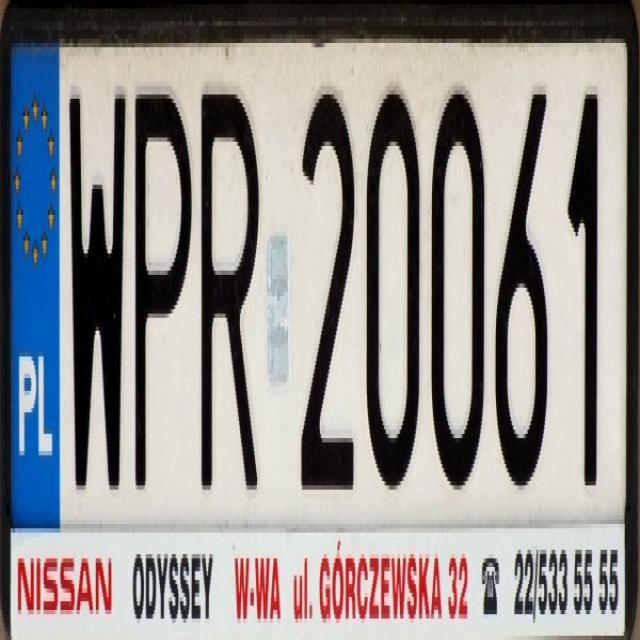pl_license_plate: (11, 39, 625, 511)
